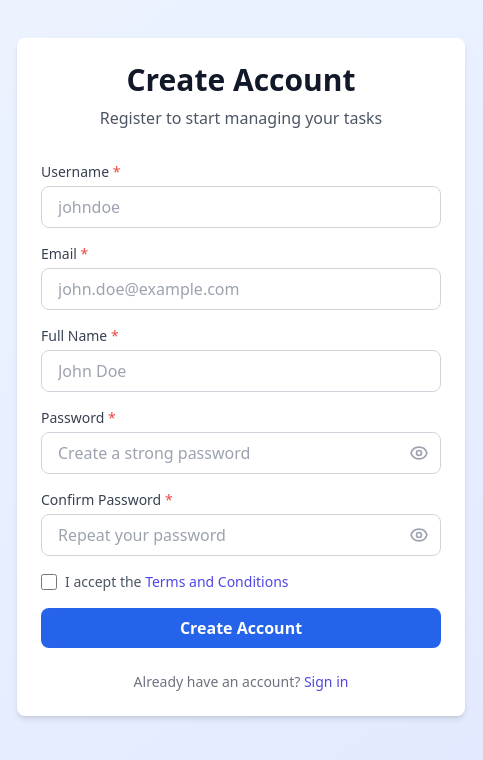
RegisterView › should show validation error for username with special chars
Type "user name!" into the field with id "username" at (241, 207), box [41,186,441,228]
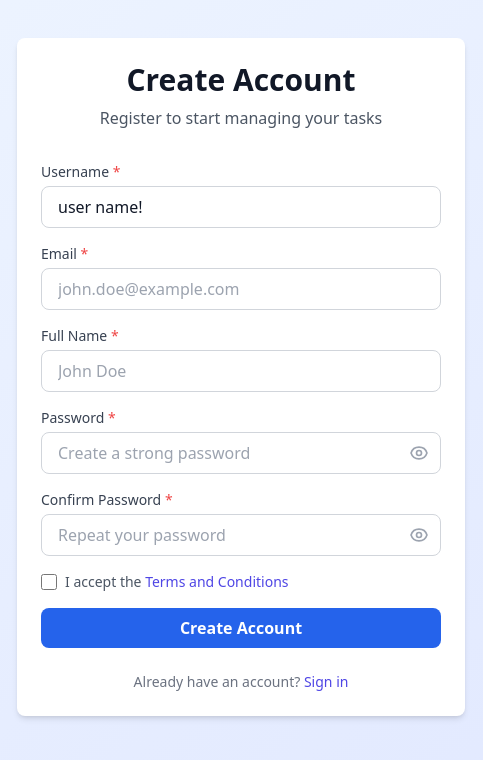
Leave the field with id "username", box [41,186,441,228]
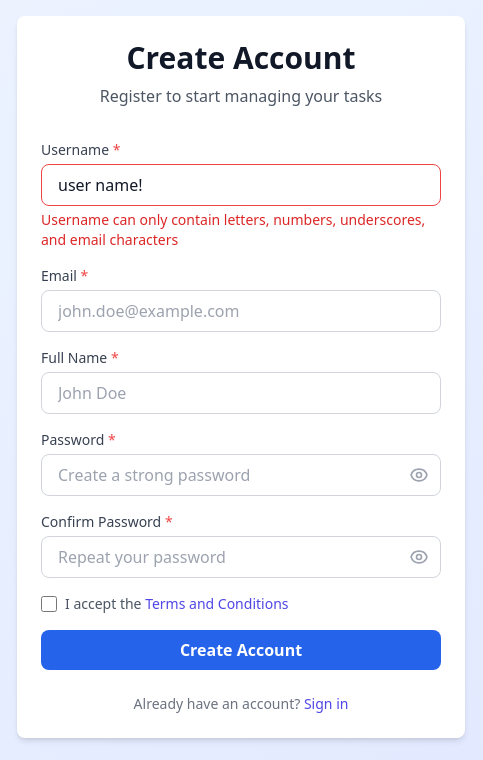
Expected: the text "letters, numbers, underscores, and email characters" is shown, [41,210,425,249]
